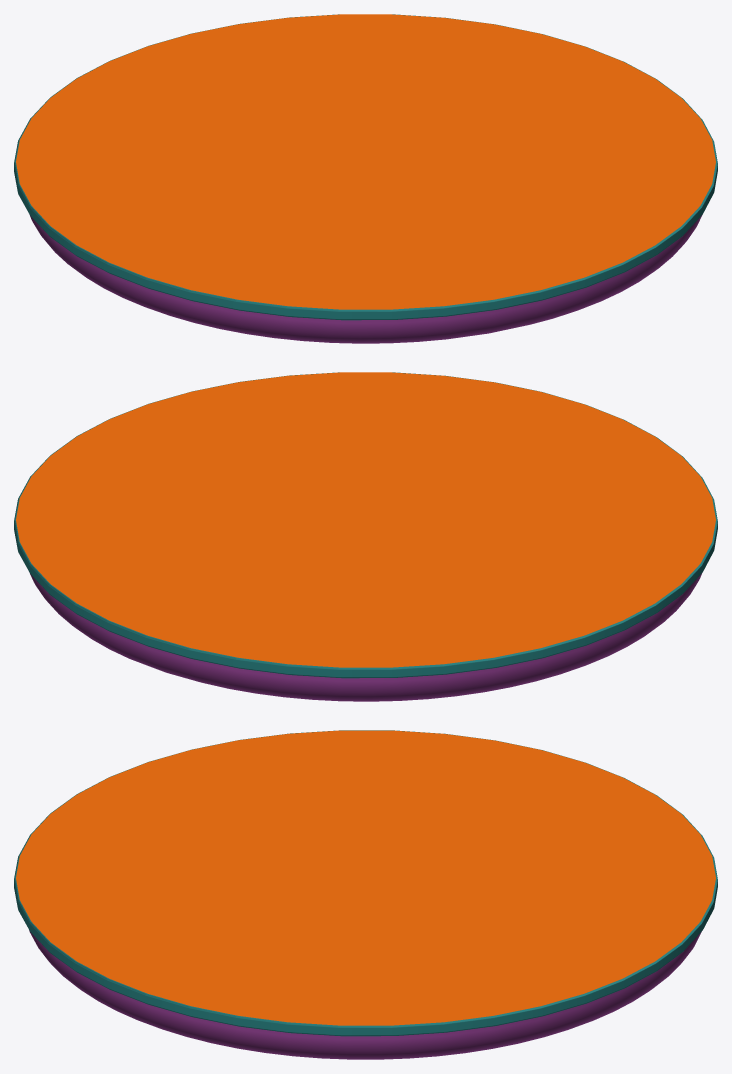
3 renders of one model, top to bottom at view 1: azimuth 30°, elevation 25°; view 2: azimuth 150°, elevation 25°; view 3: azimuth 270°, elevation 25°, orthographic.
Visible parts, largest first — view 1: Object013; view 2: Object013; view 3: Object013.
Boxes of the visible parts, x1=… form: Object013: x1=14, y1=14, x2=717, y2=343; Object013: x1=14, y1=372, x2=717, y2=701; Object013: x1=14, y1=730, x2=717, y2=1059.
Bounding box in the file's own units: 29.18 × 2.5 × 29.26.
